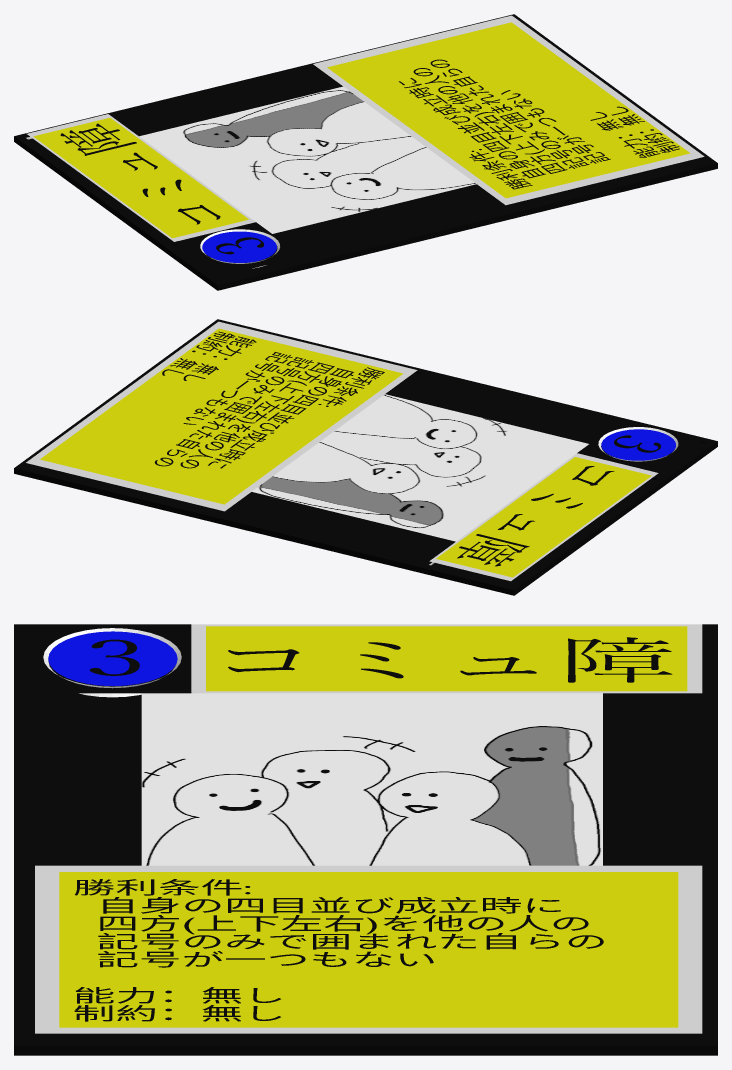
The model's file is コミュ障黒.fbx.
3 views of the same model, one above another, from view 1: azimuth 30°, elevation 25°; view 2: azimuth 150°, elevation 25°; view 3: azimuth 270°, elevation 25° (orthographic). The views are drawn at different scales.
Parts seen in each view (by area): view 1: 説明欄, 平面.001, カード本体.001, 名前欄, 説明文, 円, 平面, 名前; view 2: 説明欄, 平面.001, カード本体.001, 名前欄, 説明文, 円, 平面, 名前; view 3: 説明欄, 平面.001, カード本体.001, 名前欄, 説明文, 円, 平面, 名前, コスト蘭.
Part boxes in pixels (left/top/right/bottom): 説明欄: left=313, top=15, right=704, bottom=205; 平面.001: left=139, top=86, right=476, bottom=233; カード本体.001: left=14, top=14, right=717, bottom=290; 名前欄: left=27, top=114, right=255, bottom=241; 説明文: left=399, top=59, right=679, bottom=189; 円: left=202, top=231, right=276, bottom=262; 平面: left=174, top=222, right=302, bottom=275; 名前: left=60, top=123, right=220, bottom=224; 説明欄: left=26, top=321, right=417, bottom=511; 平面.001: left=252, top=394, right=588, bottom=541; カード本体.001: left=14, top=319, right=717, bottom=595; 名前欄: left=429, top=453, right=658, bottom=581; 説明文: left=154, top=331, right=384, bottom=468; 円: left=601, top=429, right=675, bottom=460; 平面: left=577, top=419, right=704, bottom=472; 名前: left=457, top=466, right=614, bottom=566; 説明欄: left=35, top=865, right=702, bottom=1033; 平面.001: left=141, top=693, right=602, bottom=865; カード本体.001: left=14, top=624, right=717, bottom=1055; 名前欄: left=191, top=624, right=702, bottom=693; 説明文: left=74, top=879, right=603, bottom=1021; 円: left=48, top=631, right=177, bottom=686; 平面: left=30, top=624, right=191, bottom=693; 名前: left=228, top=637, right=672, bottom=682; コスト蘭: left=43, top=628, right=181, bottom=697.
Bounding box in the file's own units: 281 × 6.07 × 198.
